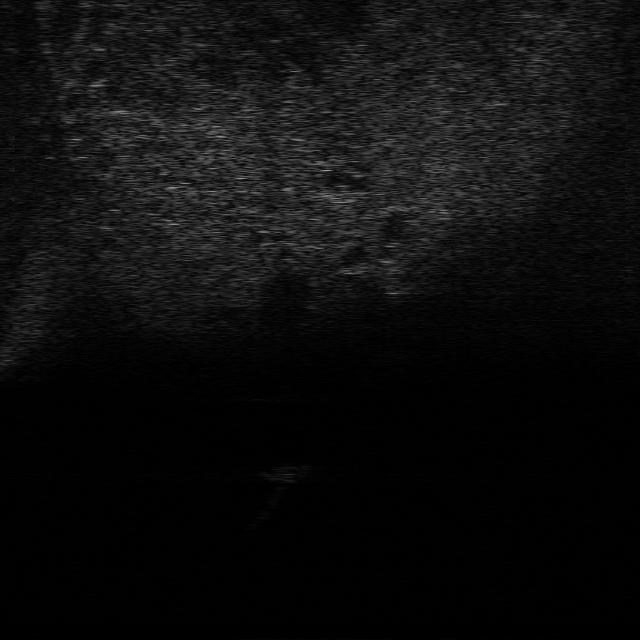cube: (259, 460, 315, 484)
